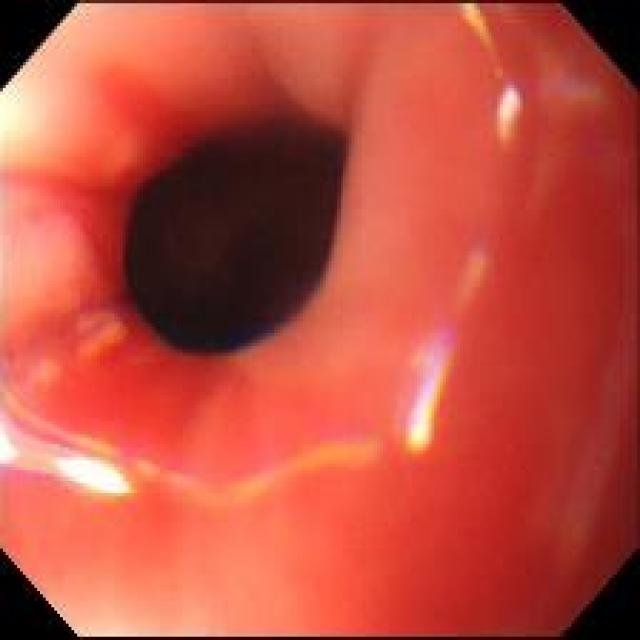blur: (1, 430, 637, 636), (479, 3, 638, 634)
color misalignment: (401, 326, 454, 455), (6, 398, 75, 485), (316, 421, 387, 464), (137, 449, 201, 495), (537, 69, 606, 104), (466, 239, 497, 284), (499, 77, 528, 115)
contrast: (110, 67, 363, 384)
specularity: (61, 454, 126, 494), (0, 428, 19, 464)
